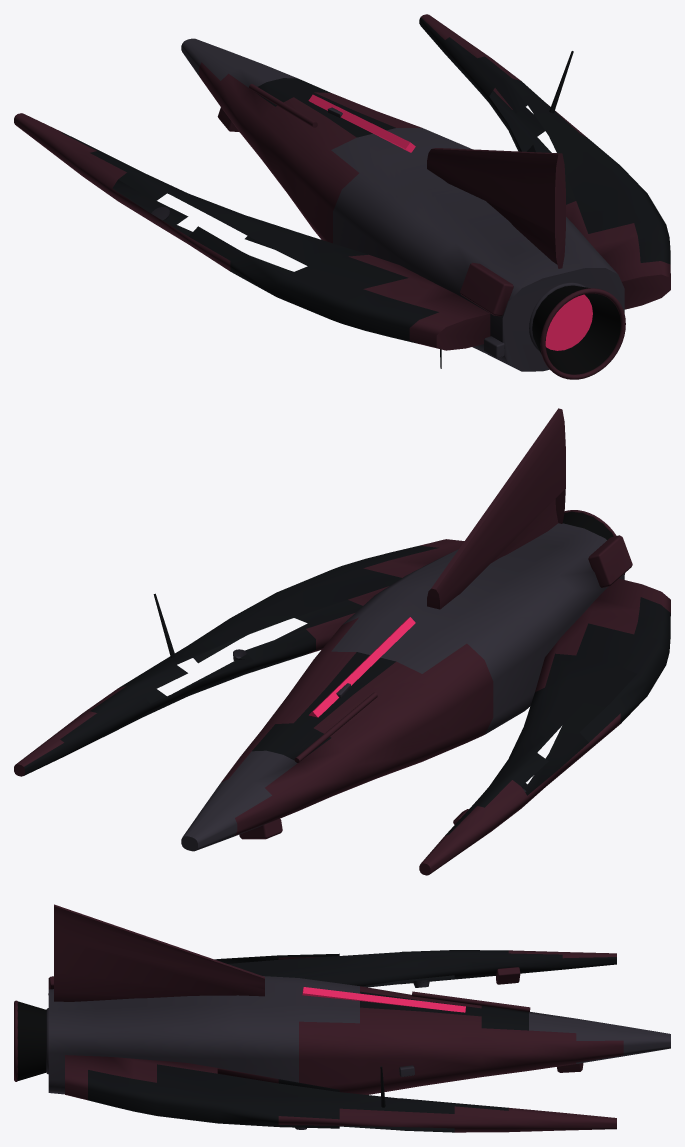
File: drone-transformed.glb
3 views of the same model, one above another, from view 1: azimuth 30°, elevation 25°; view 2: azimuth 150°, elevation 25°; view 3: azimuth 270°, elevation 25° (orthographic). The views are drawn at different scales.
Visible parts, largest first — view 1: drone; view 2: drone; view 3: drone.
Boxes of the visible parts, x1,y1,x2,y2 form: drone: (14,14,670,379); drone: (14,408,670,875); drone: (14,904,670,1132).
Bounding box in the file's own units: 7.95 × 4.2 × 13.
